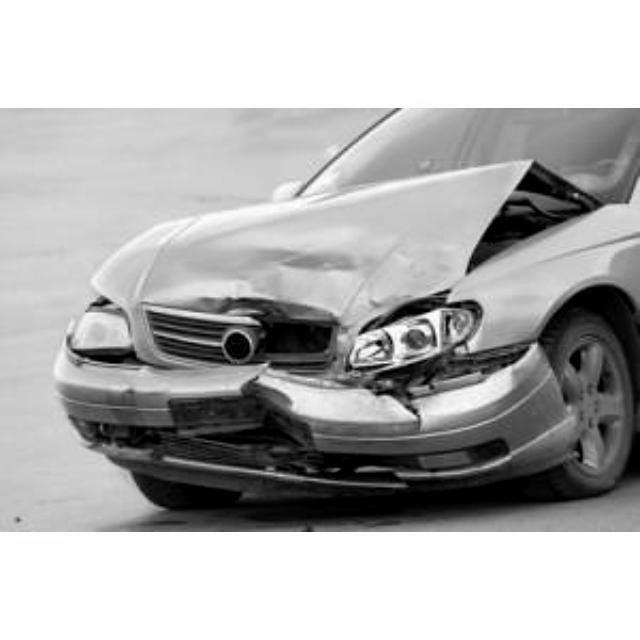Headlight-damage: (329, 292, 486, 379)
bonnet-dent: (88, 159, 563, 291)
front-bumper-dent: (82, 363, 523, 486)
